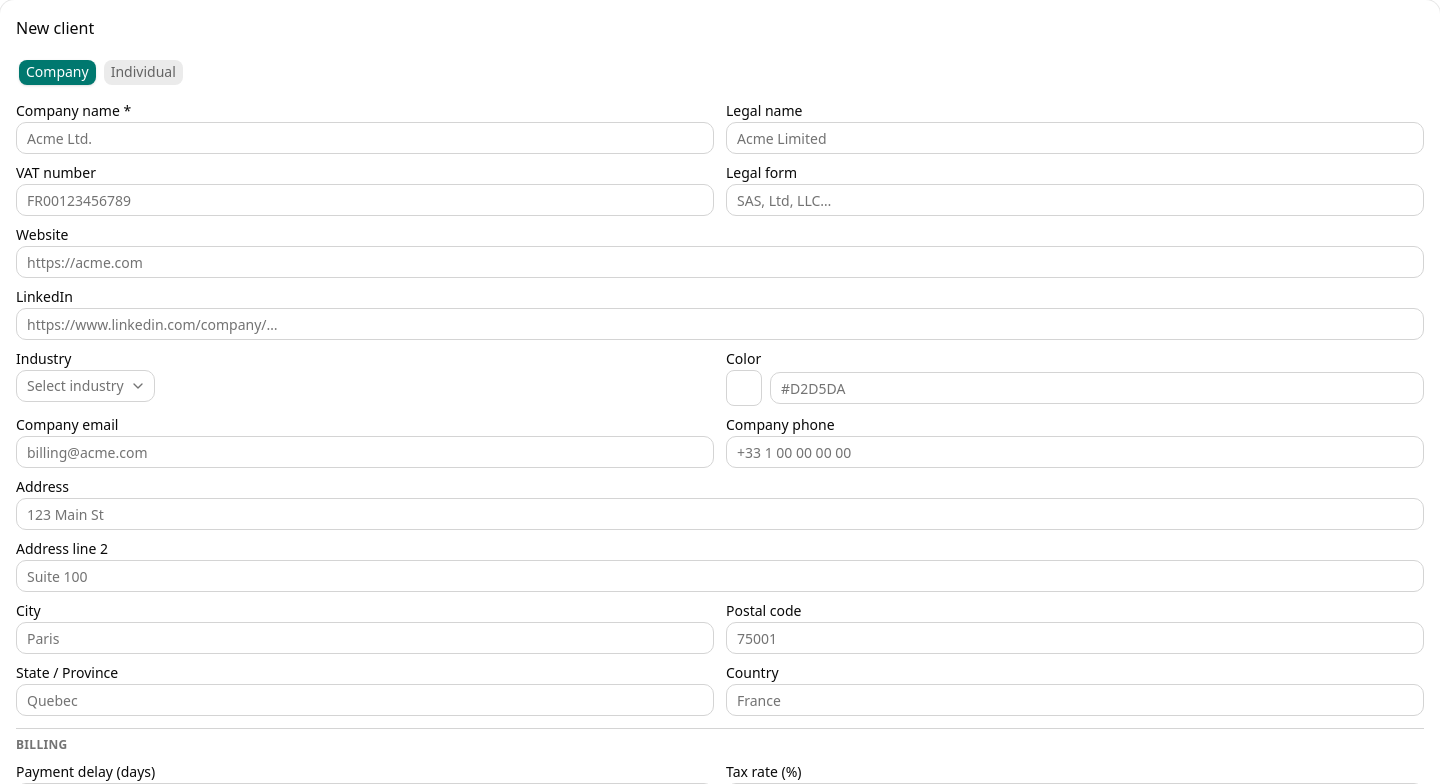
Test case: NewClientForm › shows Creating… and disables the submit button while the mutation is in-flight
In the field labelled "Company name *": (365, 138) x1=16 y1=122 x2=714 y2=154, type "Acme"
(page scrolled)
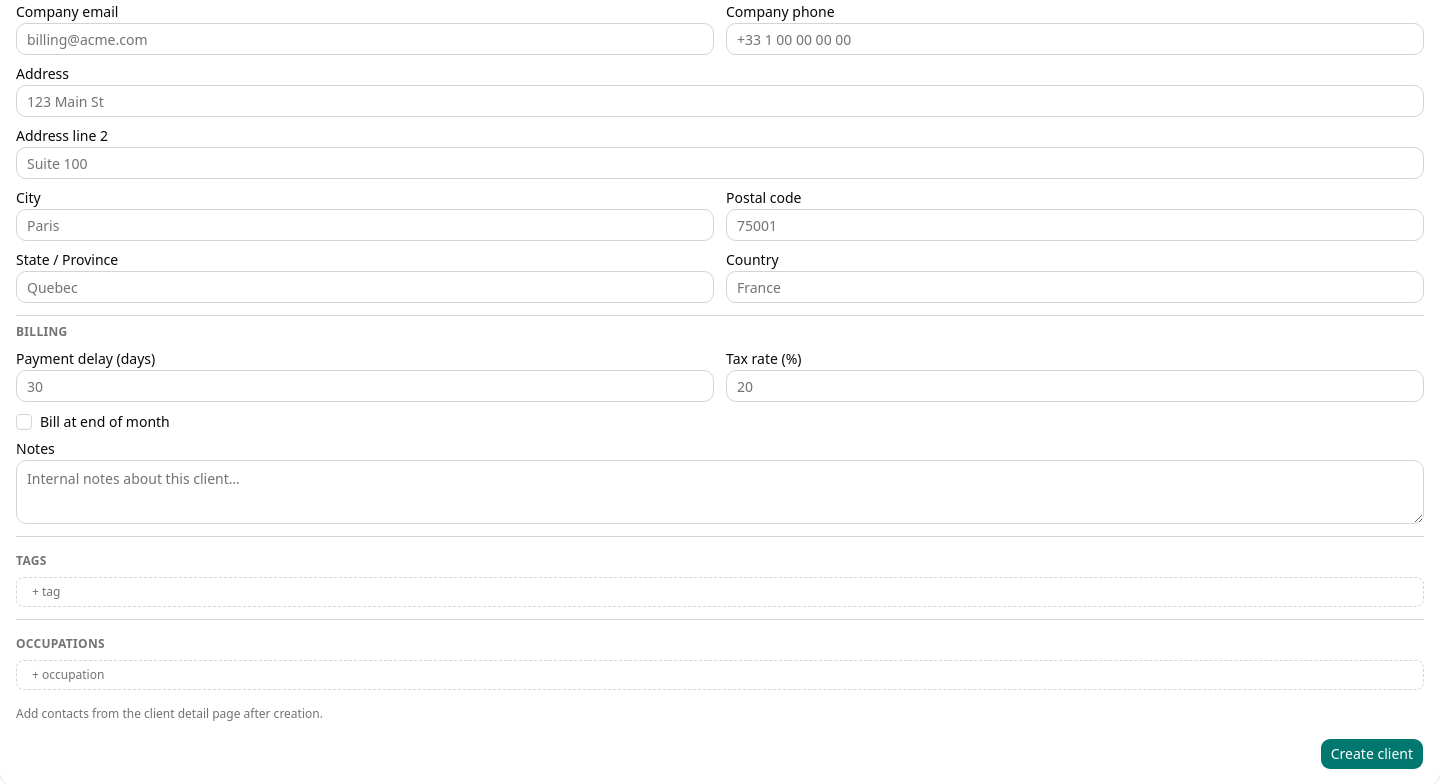
Click the button "Create client": (1372, 754) x1=1320 y1=738 x2=1424 y2=770
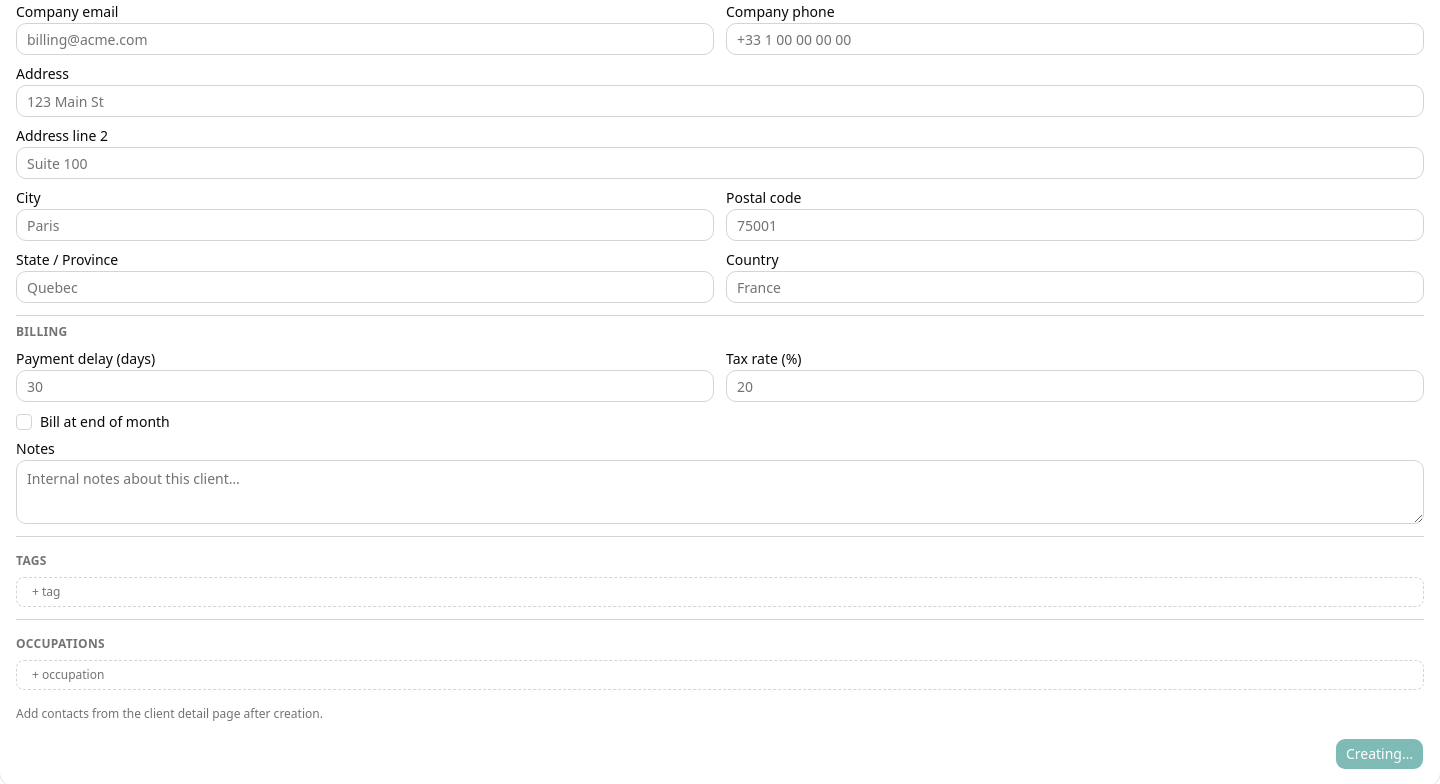
Expected: the button "Creating…" is disabled, x1=1335 y1=738 x2=1424 y2=770
